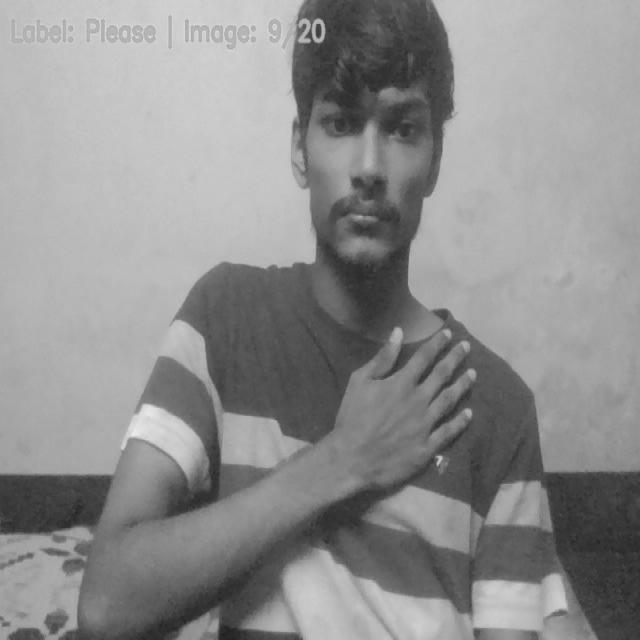Please: (338, 322, 475, 502)
